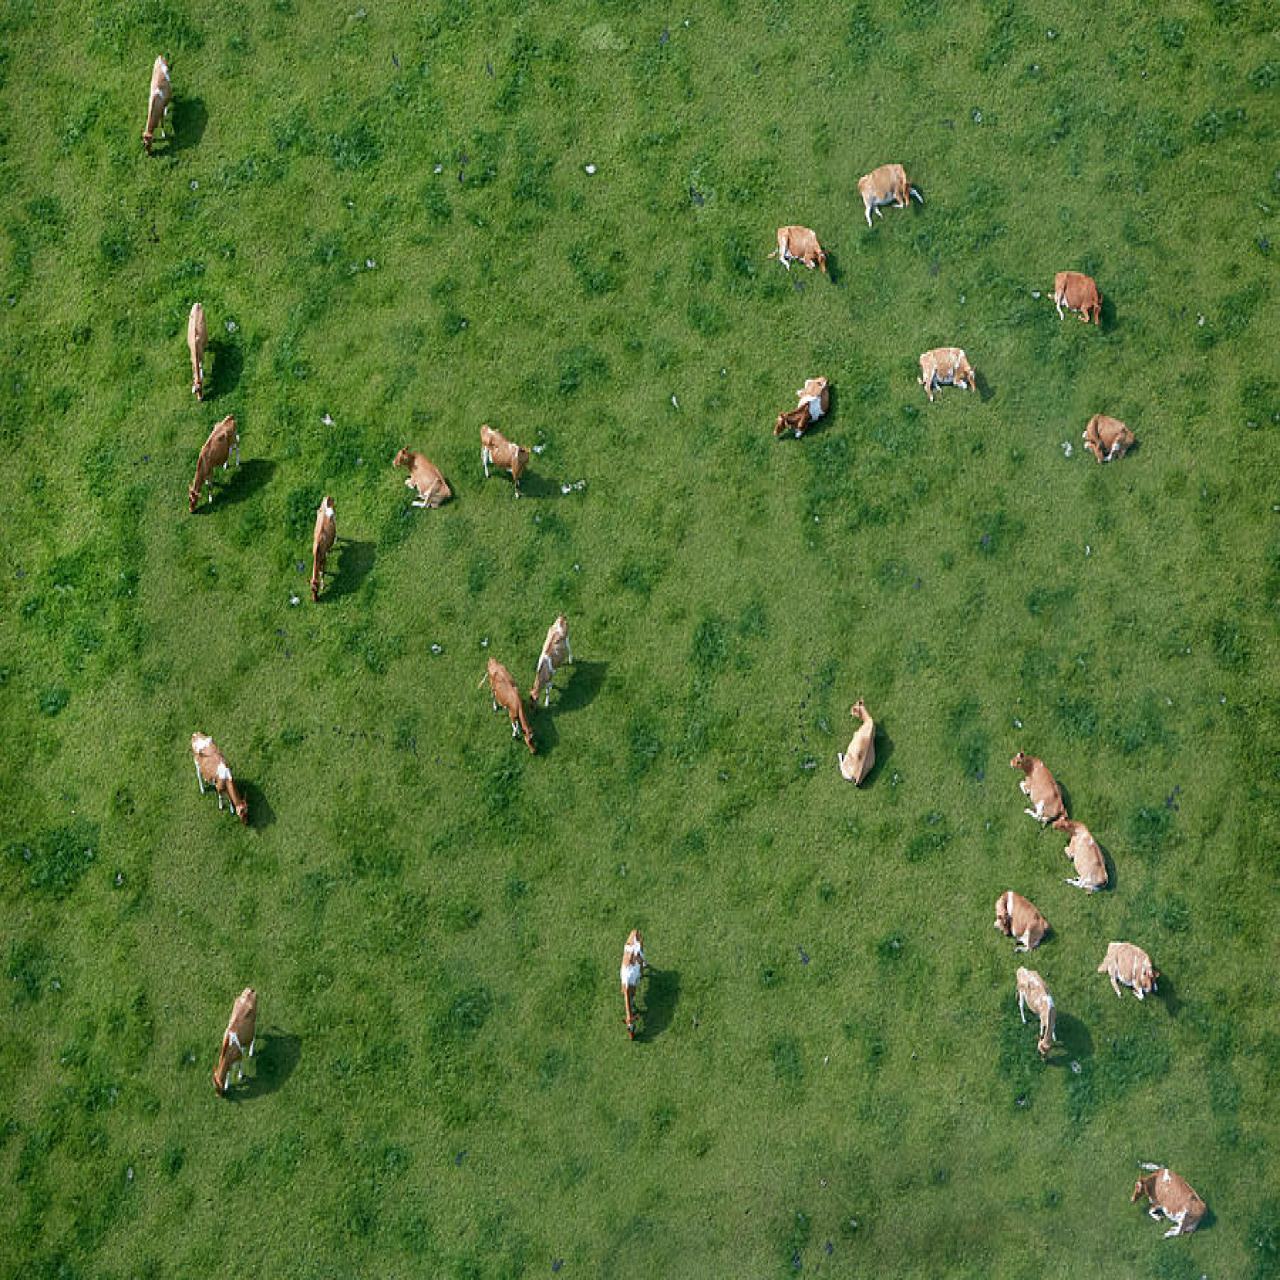cow: (1129, 1148, 1216, 1257), (115, 38, 186, 169), (158, 290, 233, 406), (761, 203, 847, 300), (189, 719, 246, 846), (774, 362, 845, 464), (1055, 789, 1117, 905), (477, 649, 539, 761), (1013, 966, 1074, 1076), (389, 423, 450, 533), (1005, 744, 1067, 844), (215, 981, 266, 1098), (527, 594, 580, 706), (989, 885, 1060, 958), (476, 416, 533, 502), (618, 922, 656, 1046), (1080, 402, 1144, 476), (840, 695, 881, 804), (851, 165, 915, 234), (193, 410, 241, 499), (913, 343, 981, 406), (1099, 938, 1162, 1003), (1050, 268, 1109, 328), (313, 491, 341, 597)
